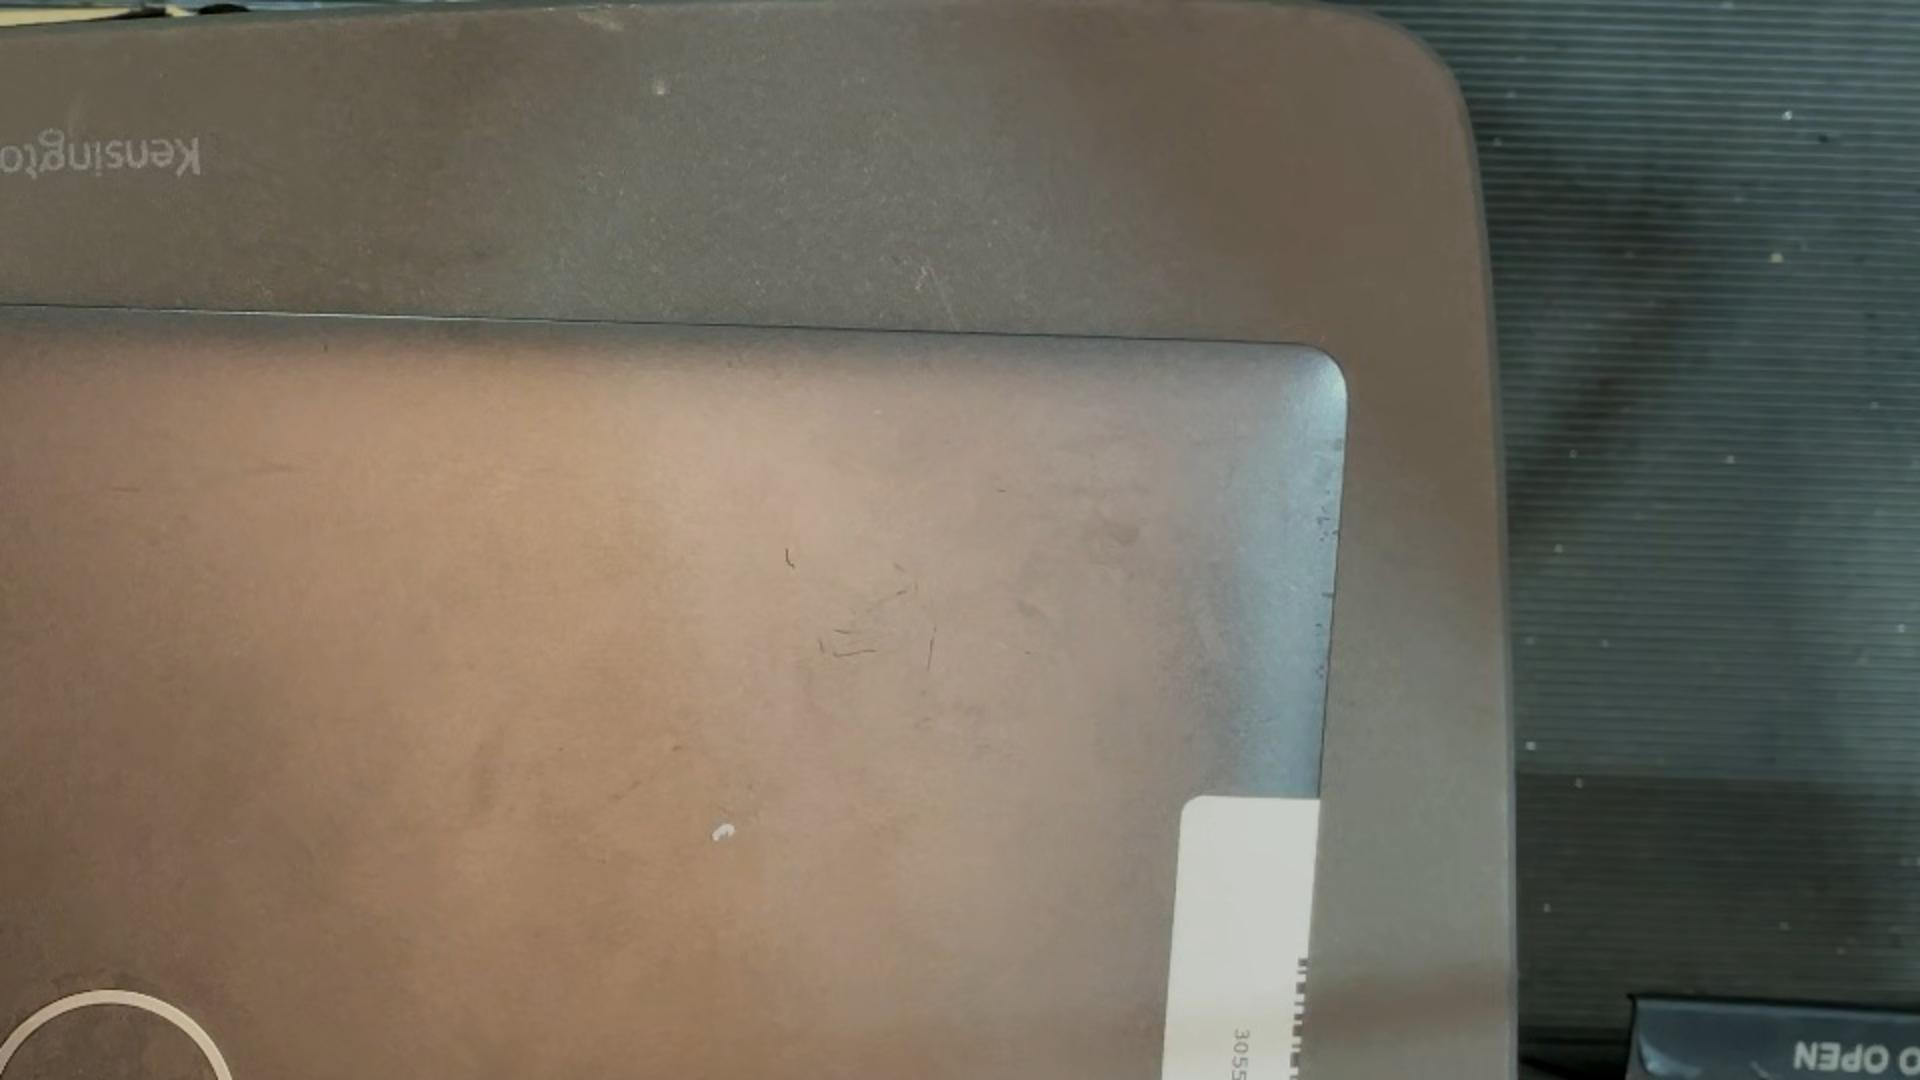chip: (708, 819, 738, 845)
scratches: (925, 625, 938, 673), (831, 648, 880, 659), (784, 545, 798, 572), (816, 639, 827, 655), (832, 628, 858, 634)
